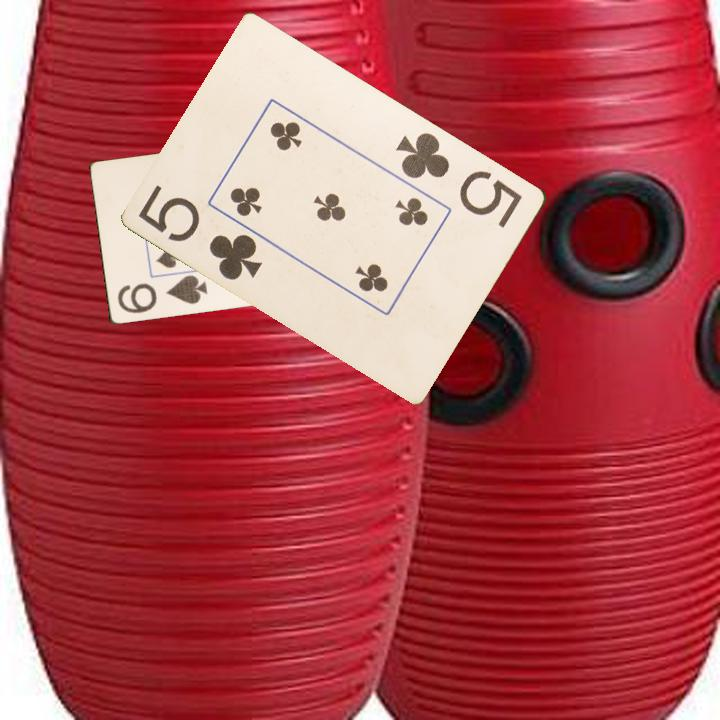5c: (392, 128, 526, 231), (135, 181, 266, 284)
6s: (114, 272, 210, 316)
